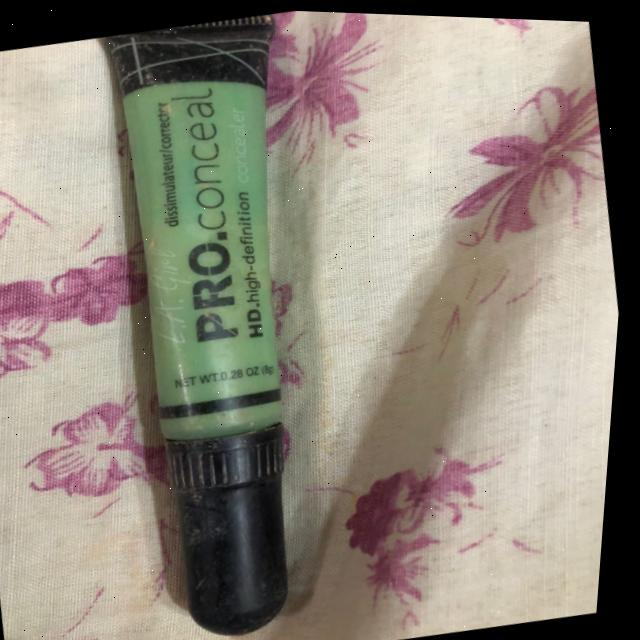concealer: (45, 2, 424, 640)
